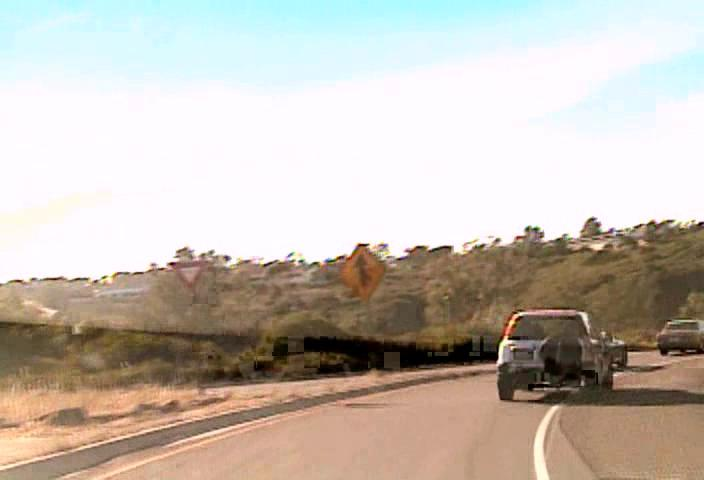yield: (166, 258, 206, 292)
